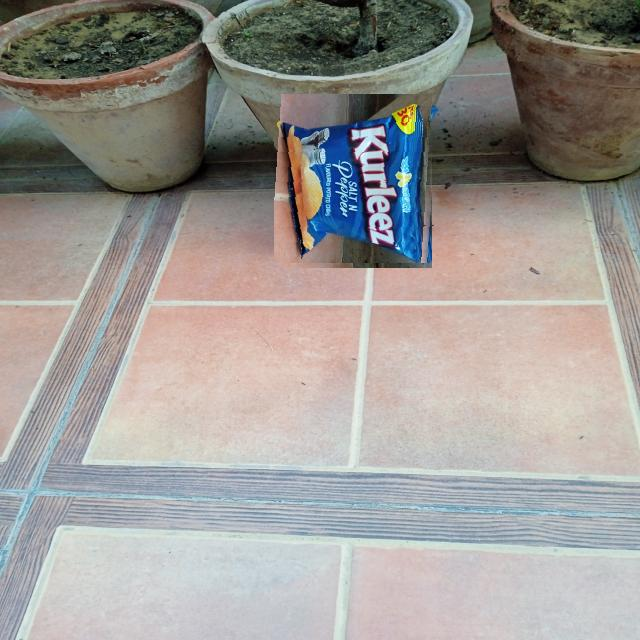Plastic: (274, 99, 438, 263)
